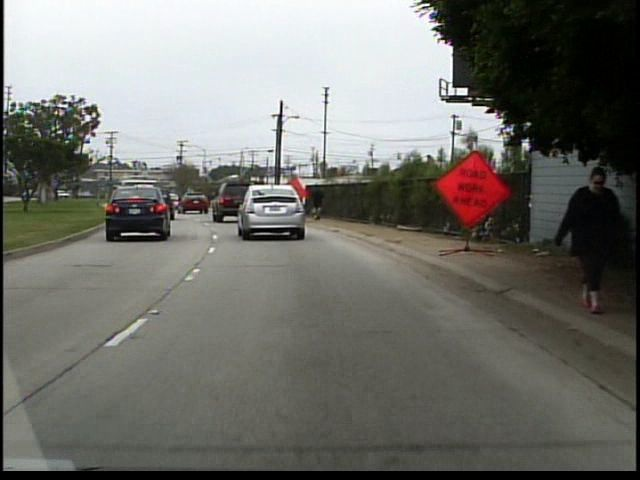person: (543, 155, 623, 317), (309, 183, 324, 223)
